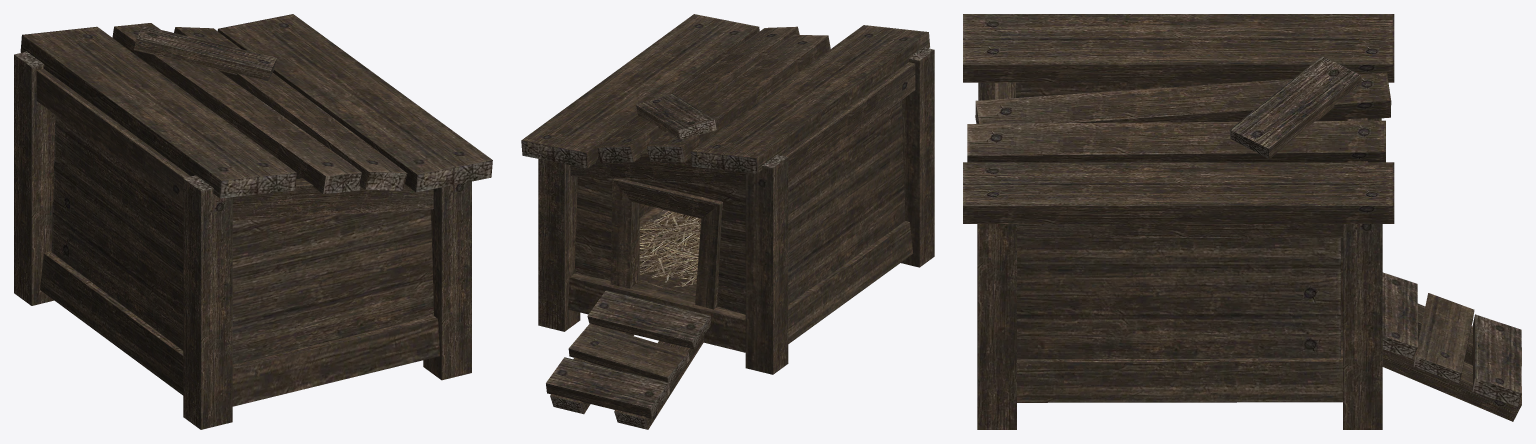
The model's file is eso_gu11_ChickenCoop-transformed.glb.
The picture shows the model from 3 angles, left to right: view 1: azimuth 30°, elevation 25°; view 2: azimuth 150°, elevation 25°; view 3: azimuth 270°, elevation 25°; orthographic projection. The views are drawn at different scales.
Parts seen in each view (by area): view 1: default; view 2: default; view 3: default.
Part boxes in pixels (bbox=[...]): default: bbox=[14, 14, 492, 429]; default: bbox=[521, 14, 934, 429]; default: bbox=[963, 14, 1521, 429].
Bounding box in the file's own units: 1.71 × 1.67 × 2.68.
1 material, 1 textured.
